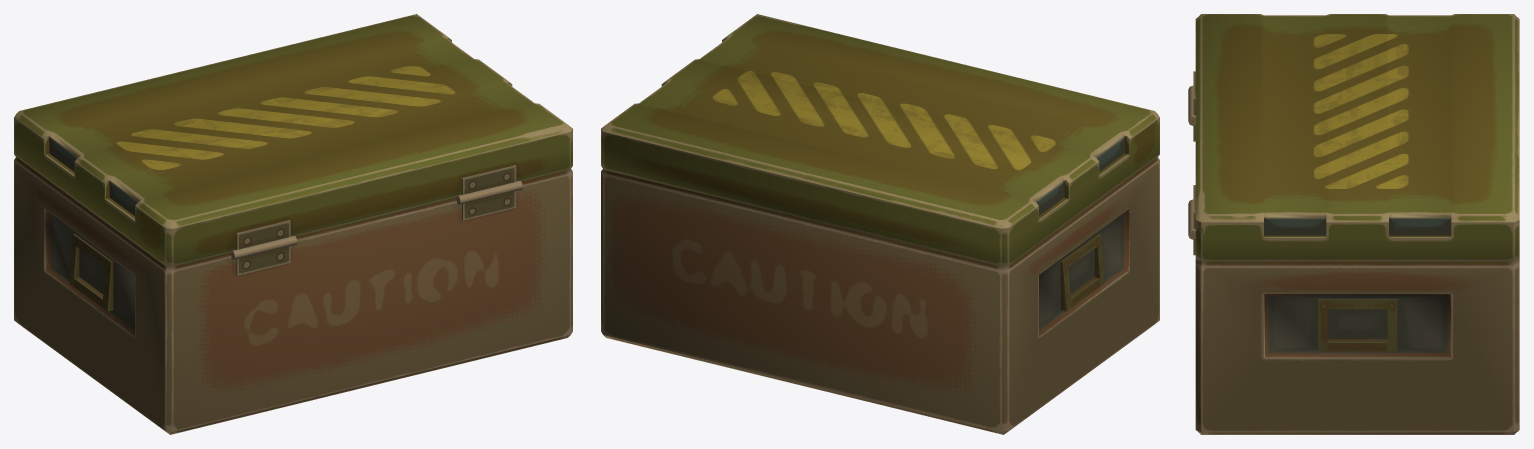
File: SM_metal_box.glb
The picture shows the model from 3 angles, left to right: view 1: azimuth 30°, elevation 25°; view 2: azimuth 150°, elevation 25°; view 3: azimuth 270°, elevation 25°; orthographic projection. The views are drawn at different scales.
Parts seen in each view (by area): view 1: SM_metal_box; view 2: SM_metal_box; view 3: SM_metal_box.
Part boxes in pixels (x1,y1,x2,y2): SM_metal_box: [14, 14, 572, 434]; SM_metal_box: [601, 14, 1159, 434]; SM_metal_box: [1188, 14, 1519, 434].
Size of the model in its own units: 1.21 by 0.6 by 0.8181.
1 material, 1 textured.
